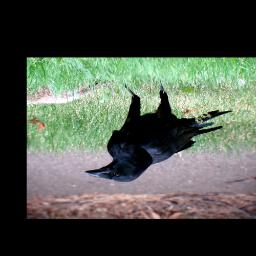Crow: (82, 82, 233, 183)
